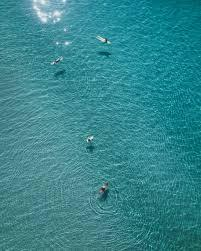swimmer: (97, 181, 110, 195), (96, 35, 112, 45), (50, 55, 62, 67), (87, 135, 93, 143)
